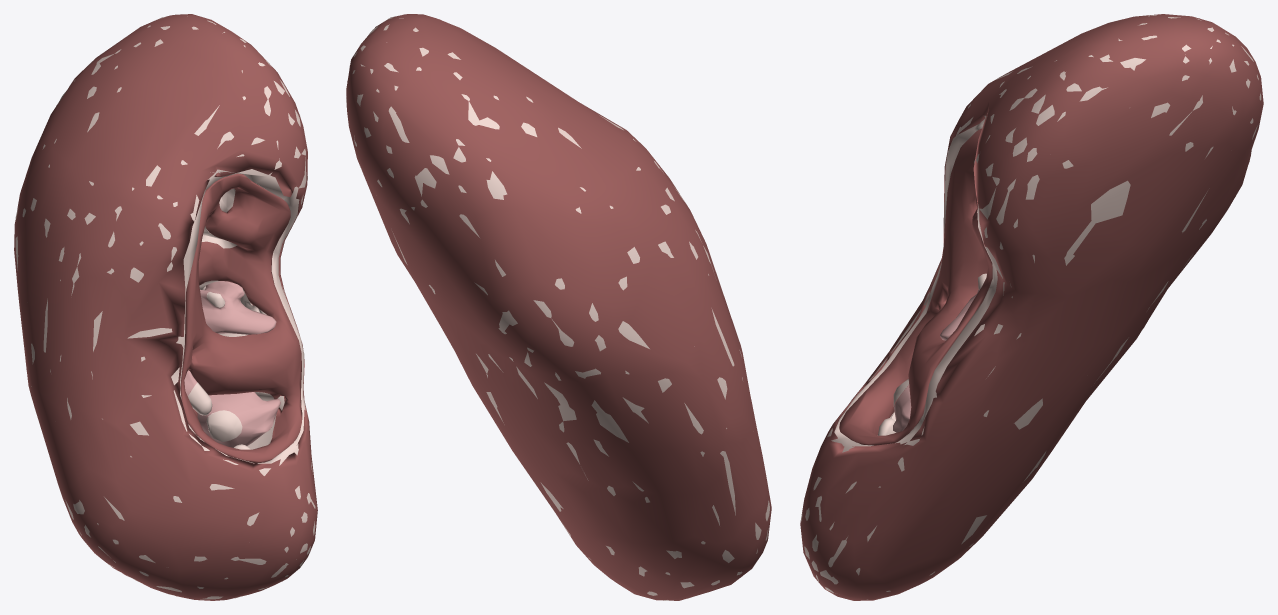
File: vh_m_kidney_r-20.glb
The picture shows the model from 3 angles, left to right: view 1: azimuth 30°, elevation 25°; view 2: azimuth 150°, elevation 25°; view 3: azimuth 270°, elevation 25°; orthographic projection. The views are drawn at different scales.
Parts seen in each view (by area): view 1: VH_M_kidney_capsule_R, VH_M_hilum_of_kidney_R, VH_M_outer_cortex_of_kidney_R, VH_M_renal_pyramid_f, VH_M_renal_pyramid_h, VH_M_renal_column_R, VH_M_renal_papilla_R_h, VH_M_renal_papilla_R_g; view 2: VH_M_kidney_capsule_R, VH_M_outer_cortex_of_kidney_R; view 3: VH_M_kidney_capsule_R, VH_M_hilum_of_kidney_R, VH_M_outer_cortex_of_kidney_R.
Boxes of the visible parts, x1,y1,x2,y2 form: VH_M_kidney_capsule_R: [14, 14, 317, 600]; VH_M_hilum_of_kidney_R: [180, 173, 302, 463]; VH_M_outer_cortex_of_kidney_R: [15, 16, 317, 599]; VH_M_renal_pyramid_f: [200, 281, 276, 334]; VH_M_renal_pyramid_h: [197, 392, 280, 447]; VH_M_renal_column_R: [199, 188, 276, 449]; VH_M_renal_papilla_R_h: [206, 410, 242, 441]; VH_M_renal_papilla_R_g: [188, 382, 212, 415]; VH_M_kidney_capsule_R: [346, 14, 771, 600]; VH_M_outer_cortex_of_kidney_R: [346, 14, 769, 600]; VH_M_kidney_capsule_R: [800, 14, 1263, 600]; VH_M_hilum_of_kidney_R: [839, 128, 992, 445]; VH_M_outer_cortex_of_kidney_R: [801, 15, 1261, 599].
Size of the model in its own units: 0.0656 by 0.1125 by 0.0765.
